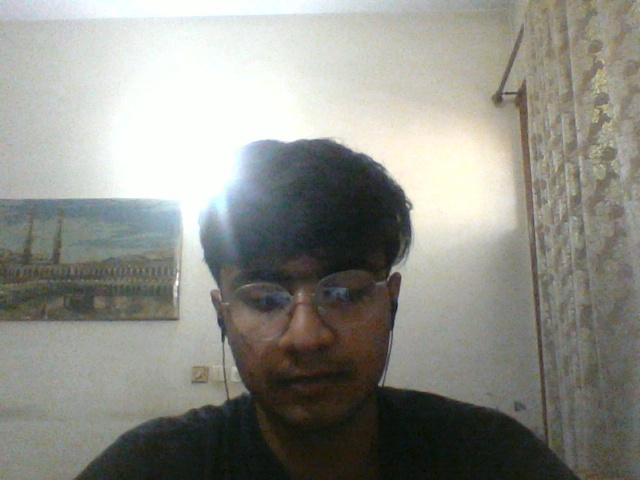neutral: (209, 240, 406, 441)
